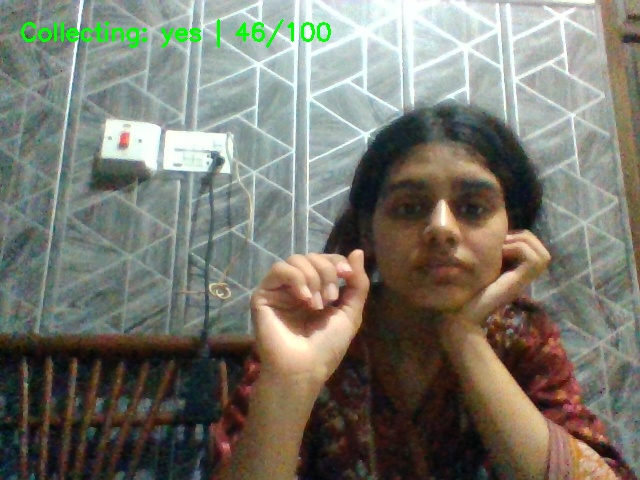yes: (246, 247, 388, 403)
